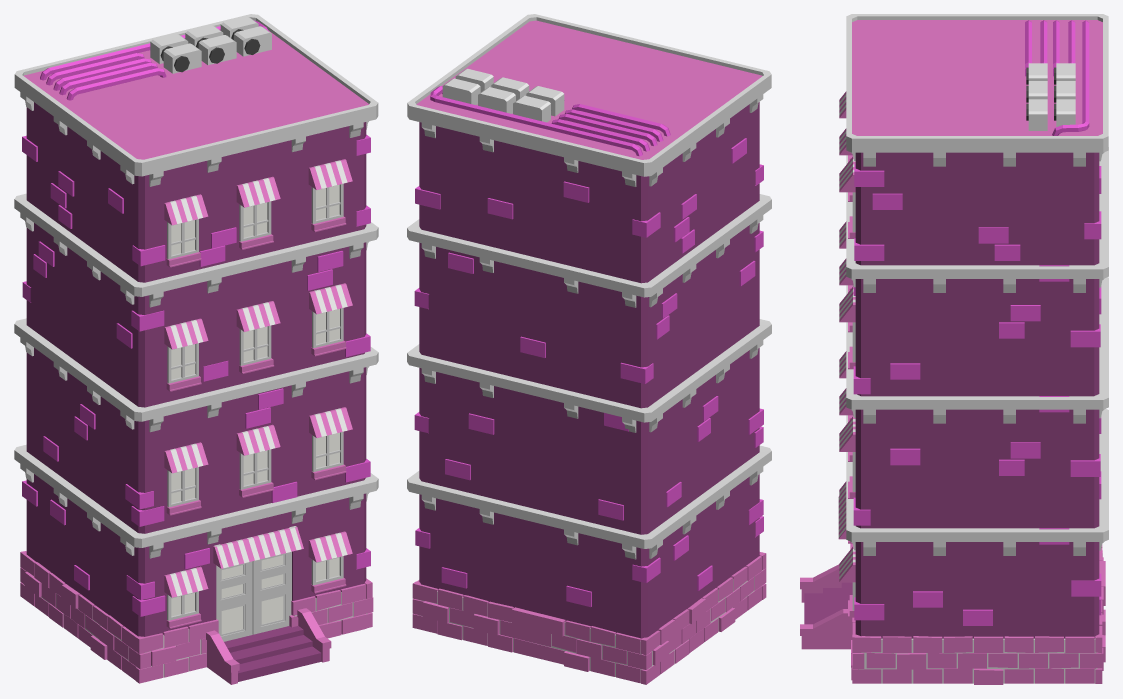
File: 4Story_Mat.fbx
The picture shows the model from 3 angles, left to right: view 1: azimuth 30°, elevation 25°; view 2: azimuth 150°, elevation 25°; view 3: azimuth 270°, elevation 25°; orthographic projection. The views are drawn at different scales.
Parts seen in each view (by area): view 1: 4Story_Mat; view 2: 4Story_Mat; view 3: 4Story_Mat.
Part boxes in pixels (bbox=[...]): 4Story_Mat: bbox=[14, 14, 378, 684]; 4Story_Mat: bbox=[407, 14, 771, 684]; 4Story_Mat: bbox=[800, 14, 1108, 684].
Bounding box in the file's own units: 242 × 509 × 253.
